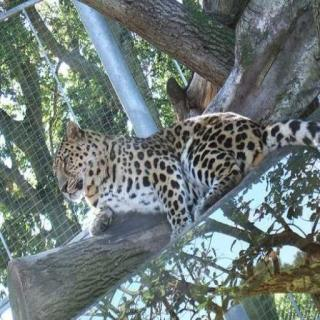Leopard: (32, 93, 294, 249)
